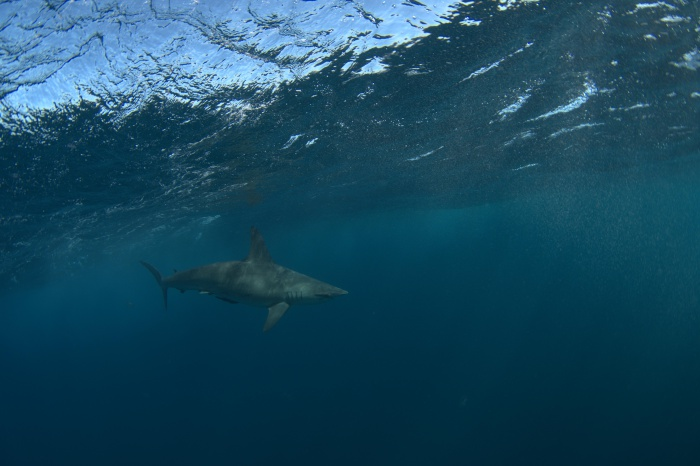Hammer: (130, 225, 353, 333)
